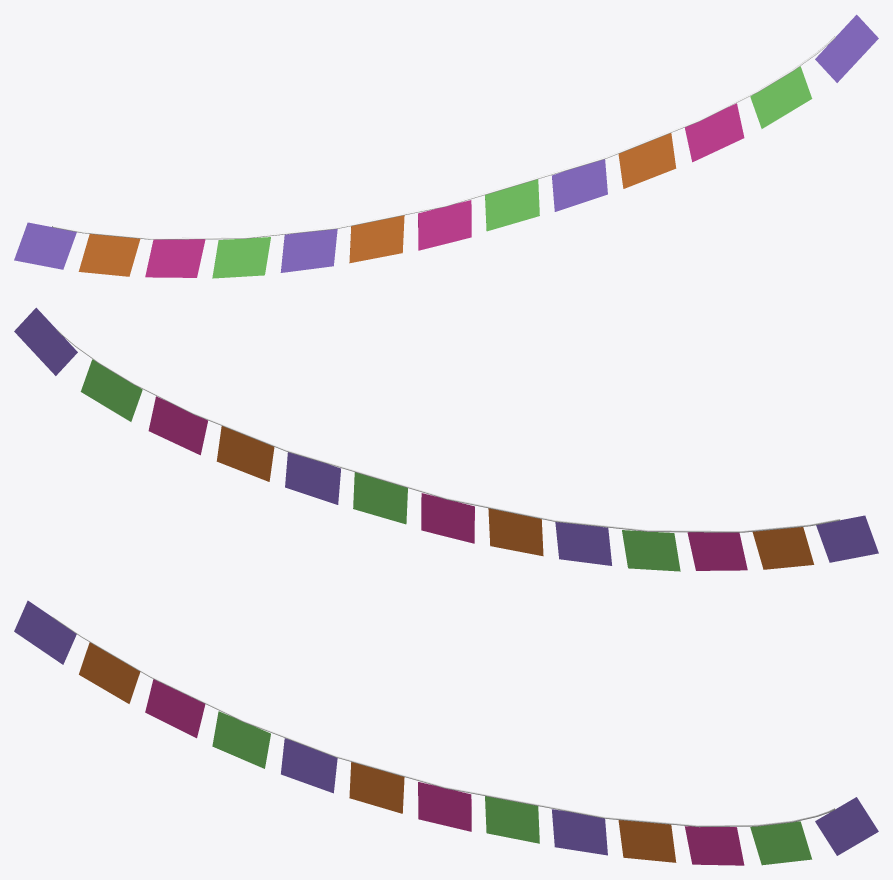
File: StringofFlagsSquare.fbx
3 renders of one model, top to bottom at view 1: azimuth 30°, elevation 25°; view 2: azimuth 150°, elevation 25°; view 3: azimuth 330°, elevation 25°, orthographic.
Visible parts, largest first — view 1: Cube_6, Cube_3, Cube_2, Cube_2_0, Cube_10, Cube_2_12, Cube_1_1, Cube_1_5, Cube_2_4, Cube_7, Cube_11, Cube_2_8 (+2 smaller); view 2: Cube_6, Cube_3, Cube_2, Cube_2_0, Cube_10, Cube_2_12, Cube_1_1, Cube_1_5, Cube_2_4, Cube_7, Cube_11, Cube_2_8 (+2 smaller); view 3: Cube_6, Cube_3, Cube_2_12, Cube_11, Cube_2, Cube_2_0, Cube_7, Cube_1_9, Cube_1_5, Cube_2_8, Cube_10, Cube_2_4 (+2 smaller).
Boxes of the visible parts, left/top/right/bottom form: Cube_6: left=418, top=200, right=471, bottom=250; Cube_3: left=212, top=237, right=270, bottom=278; Cube_2: left=145, top=239, right=205, bottom=277; Cube_2_0: left=14, top=222, right=76, bottom=269; Cube_10: left=685, top=103, right=744, bottom=162; Cube_2_12: left=815, top=14, right=878, bottom=82; Cube_1_1: left=78, top=234, right=140, bottom=276; Cube_1_5: left=349, top=215, right=404, bottom=263; Cube_2_4: left=280, top=229, right=337, bottom=272; Cube_7: left=485, top=179, right=539, bottom=231; Cube_11: left=750, top=66, right=812, bottom=128; Cube_2_8: left=552, top=159, right=607, bottom=211; Cube_6: left=421, top=493, right=474, bottom=543; Cube_3: left=622, top=530, right=680, bottom=571; Cube_2: left=687, top=532, right=747, bottom=570; Cube_2_0: left=816, top=515, right=878, bottom=562; Cube_10: left=148, top=396, right=207, bottom=455; Cube_2_12: left=14, top=307, right=77, bottom=375; Cube_1_1: left=752, top=527, right=814, bottom=569; Cube_1_5: left=488, top=508, right=543, bottom=556; Cube_2_4: left=555, top=522, right=612, bottom=565; Cube_7: left=353, top=472, right=407, bottom=524; Cube_11: left=80, top=359, right=142, bottom=421; Cube_2_8: left=285, top=452, right=340, bottom=504; Cube_6: left=418, top=782, right=471, bottom=831; Cube_3: left=212, top=711, right=270, bottom=768; Cube_2_12: left=815, top=797, right=878, bottom=855; Cube_11: left=750, top=821, right=812, bottom=865; Cube_2: left=145, top=679, right=205, bottom=738; Cube_2_0: left=14, top=600, right=76, bottom=664; Cube_7: left=485, top=796, right=539, bottom=843; Cube_1_9: left=618, top=820, right=676, bottom=862; Cube_1_5: left=349, top=762, right=404, bottom=813; Cube_2_8: left=551, top=809, right=607, bottom=855; Cube_10: left=684, top=826, right=744, bottom=865; Cube_2_4: left=281, top=738, right=337, bottom=793.
Size of the model in its own units: 1158 by 165 by 2.
